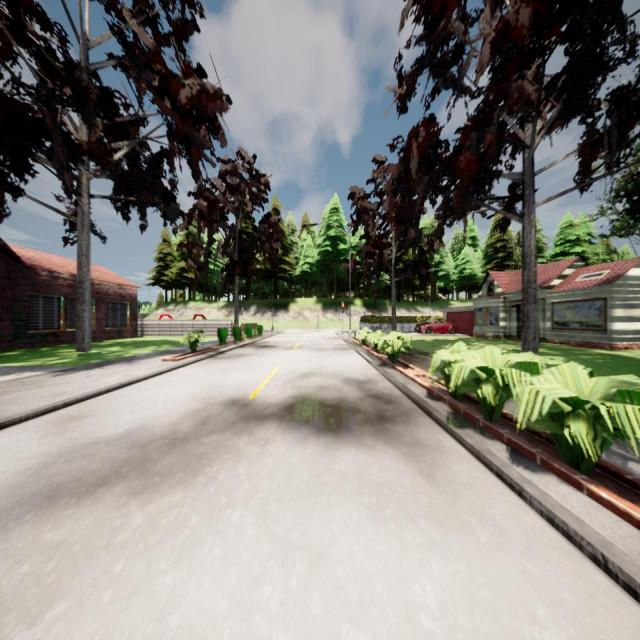Vehicle: (415, 318, 456, 334)
traffic_light: (342, 303, 344, 313)
